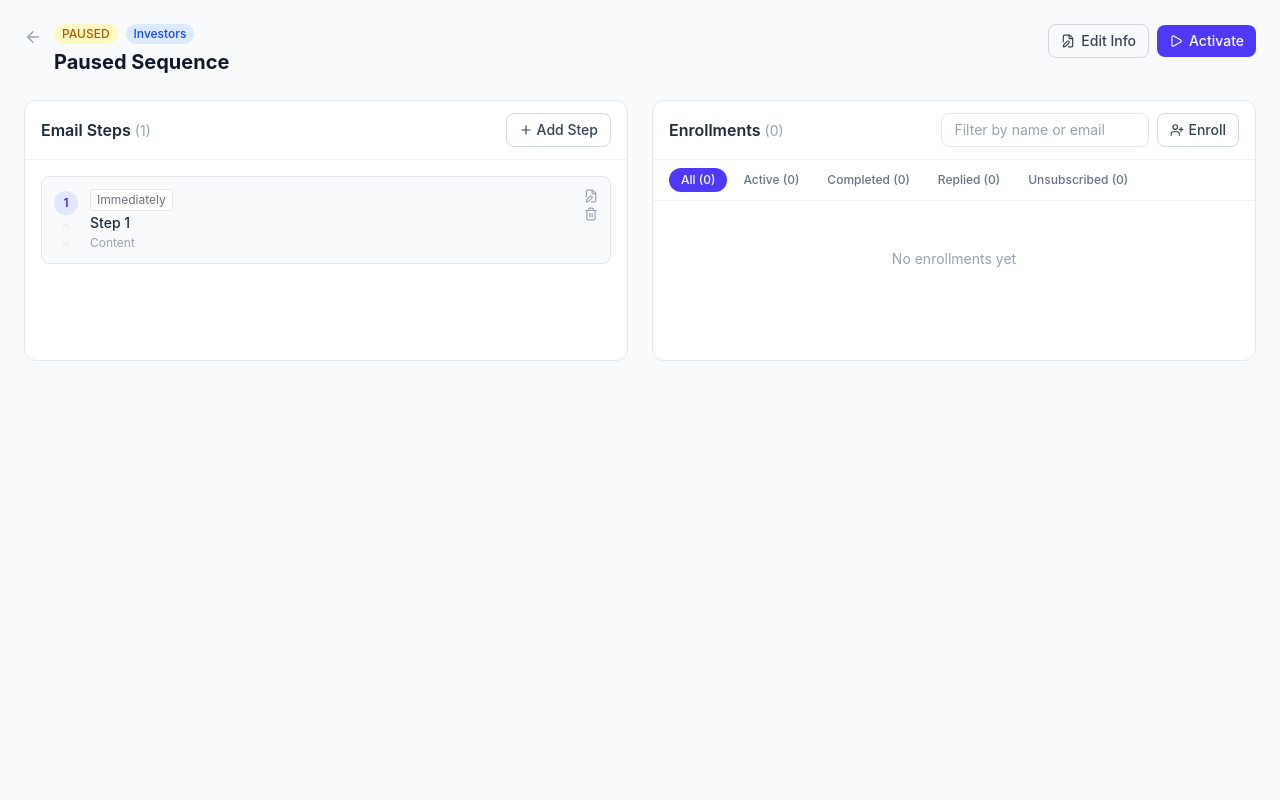
Test: SequenceDetailPage › opens activate modal for a paused sequence
Click the button "Activate" at x=1206, y=41, box [1157, 25, 1256, 57]
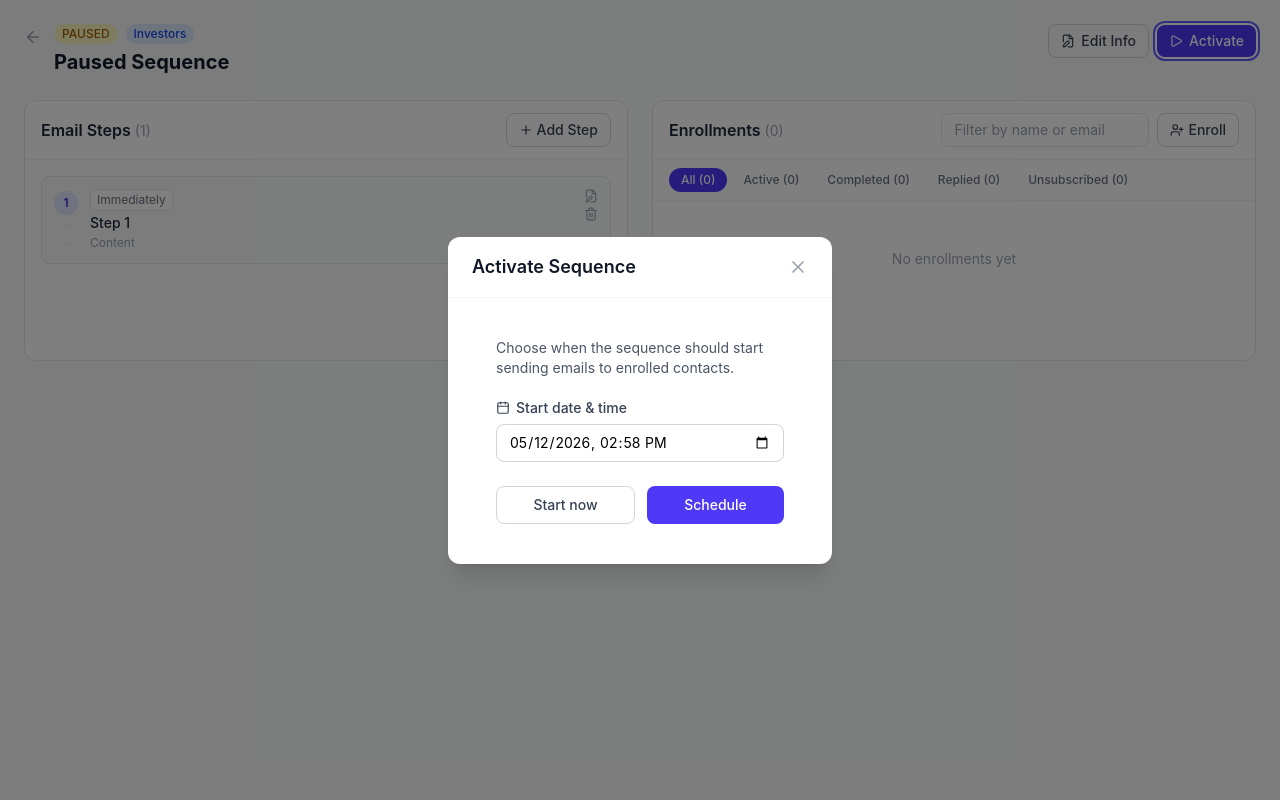
Result: the heading "Activate Sequence" is shown at [472, 252, 636, 280]
